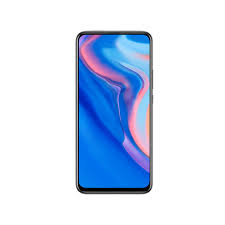huawei: (74, 27, 155, 197)
